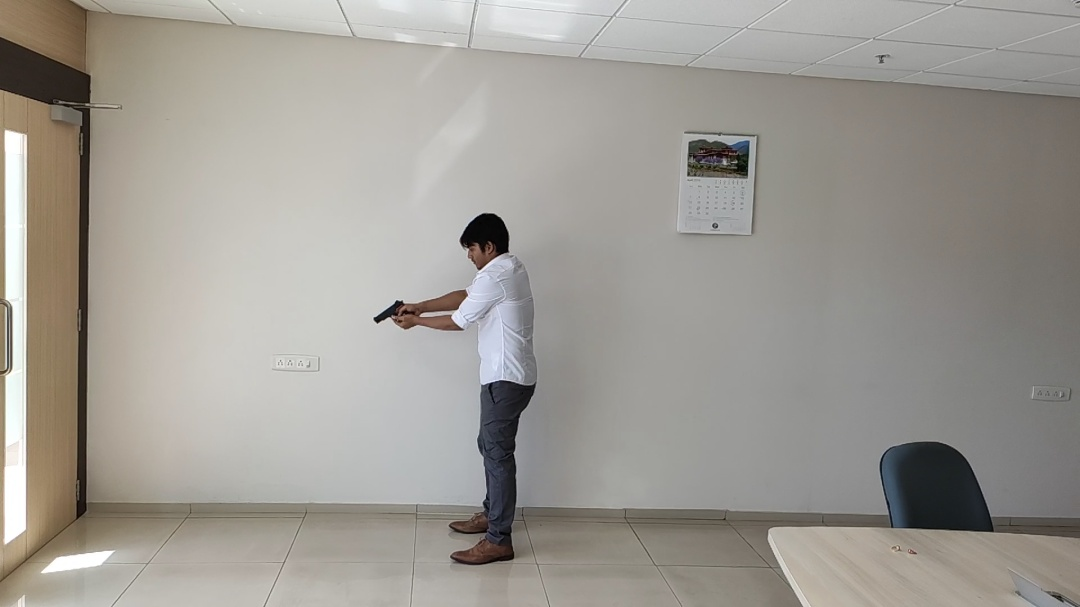gun: (372, 299, 411, 314)
